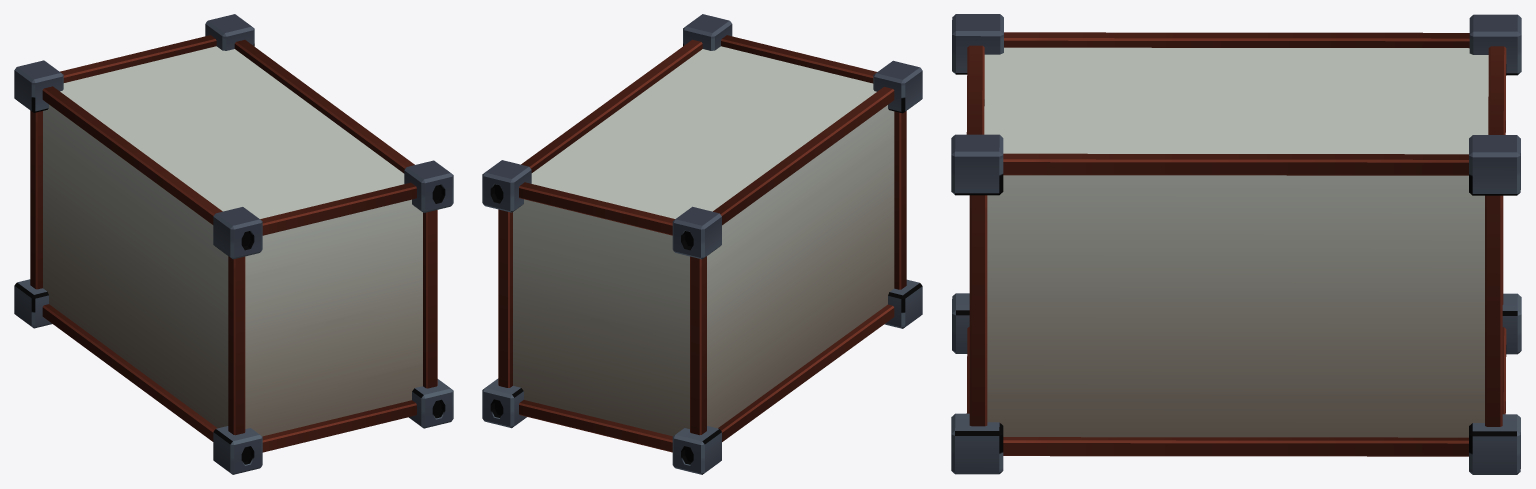
File: whitebox.fbx
The picture shows the model from 3 angles, left to right: view 1: azimuth 30°, elevation 25°; view 2: azimuth 150°, elevation 25°; view 3: azimuth 270°, elevation 25°; orthographic projection. The views are drawn at different scales.
Visible parts, largest first — view 1: whitebox; view 2: whitebox; view 3: whitebox.
Part boxes in pixels (<box>): whitebox: <box>14,14,453,474</box>; whitebox: <box>482,14,922,474</box>; whitebox: <box>951,14,1521,474</box>.
Size of the model in its own units: 293 by 312 by 500.
Materials: 1 (1 with a texture image).
